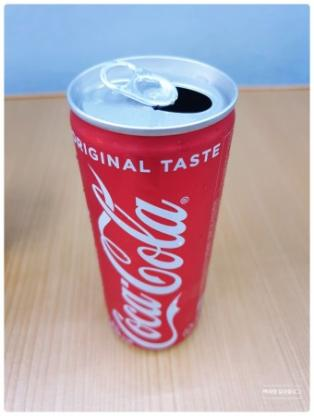Can: (68, 53, 238, 353)
